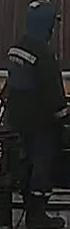vest: (7, 41, 67, 137)
